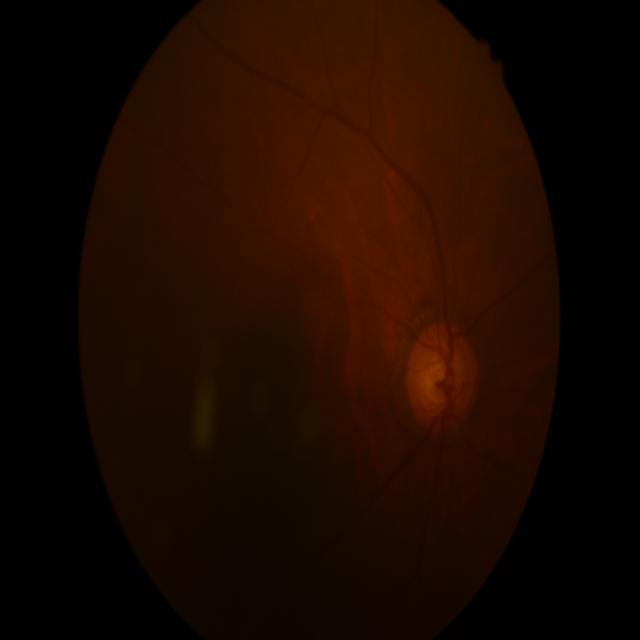cup: (419, 350, 462, 416)
disk: (406, 320, 480, 435)
